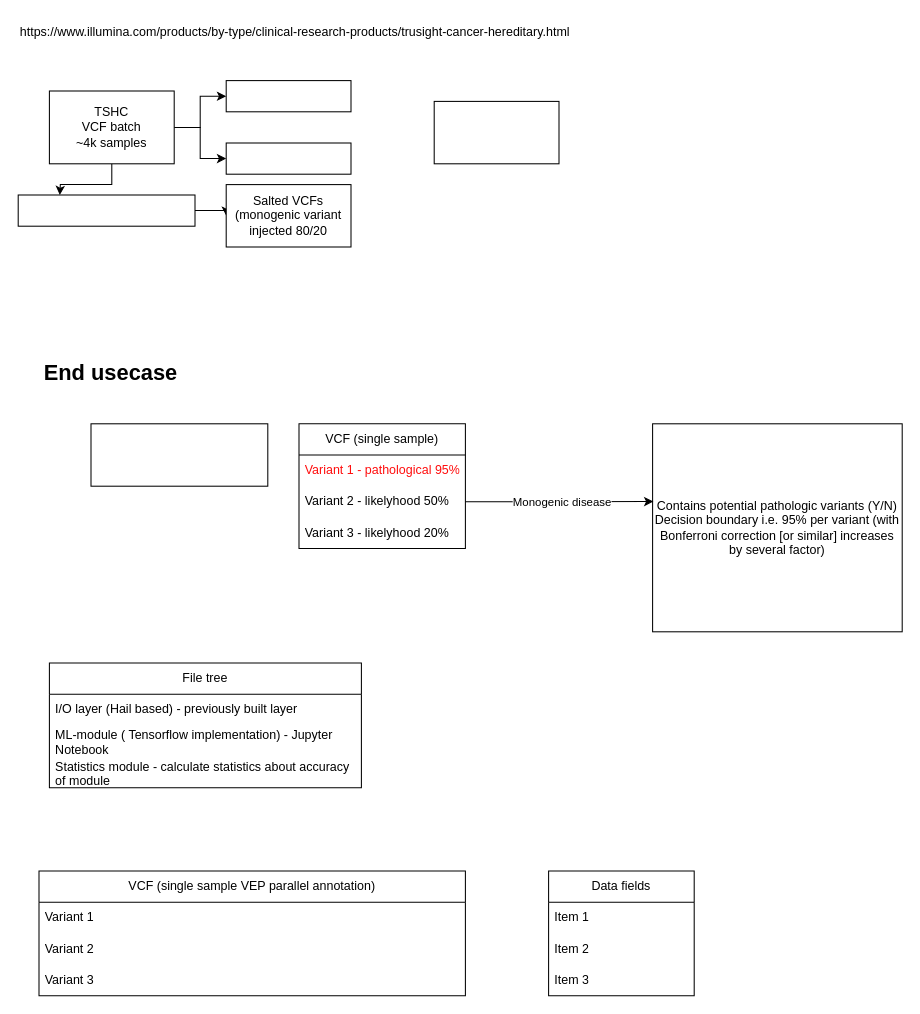
Some shapes in this 920 by 1014 pixel diagram are drawn without their labels. Each missing label, with the centre of its shape:
Monogenic known: the point at 288,96
Not known: the point at 288,158
Single sample (with phenotype data i.e. HEREDITARY CANCER): the point at 179,454
Test data (known/not known): the point at 106,210
